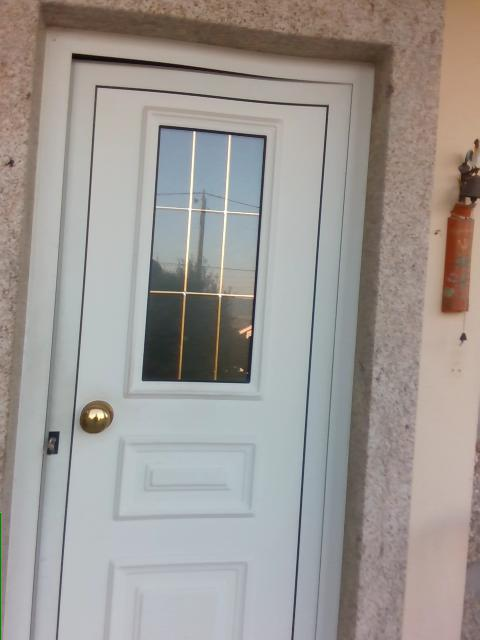door: (4, 5, 393, 639)
